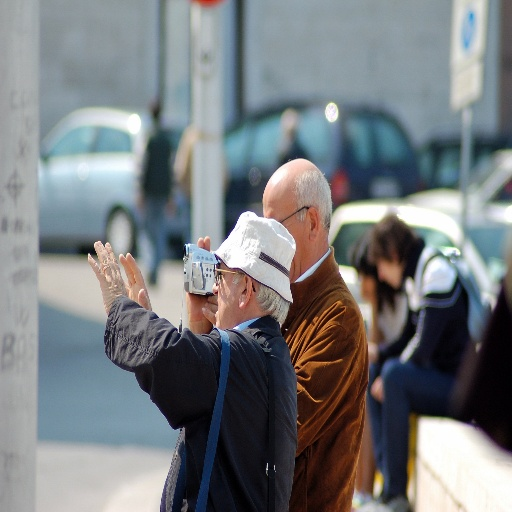hand: (84, 247, 144, 307), (185, 233, 212, 321), (124, 249, 154, 313), (202, 296, 217, 327), (370, 378, 384, 404), (366, 341, 377, 364)
